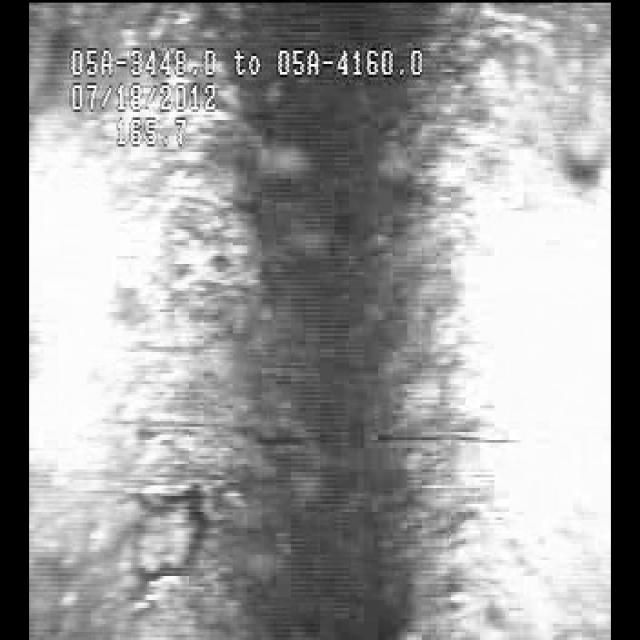Crack: (64, 383, 498, 552)
